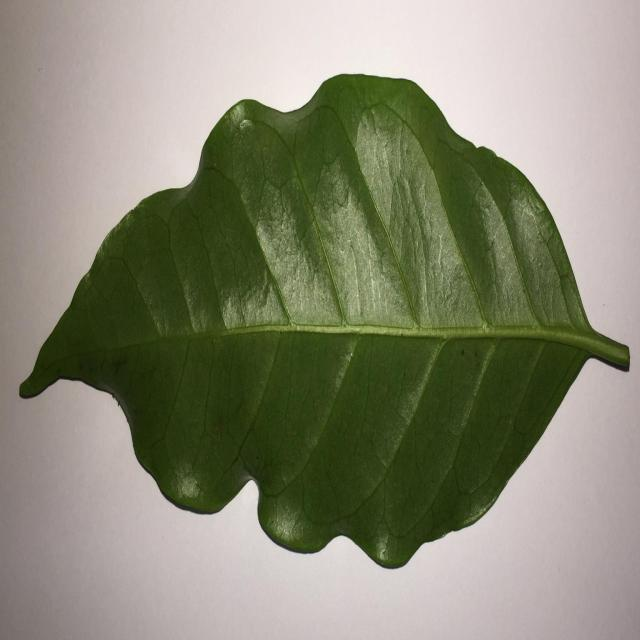Sanas: (18, 74, 632, 571)
